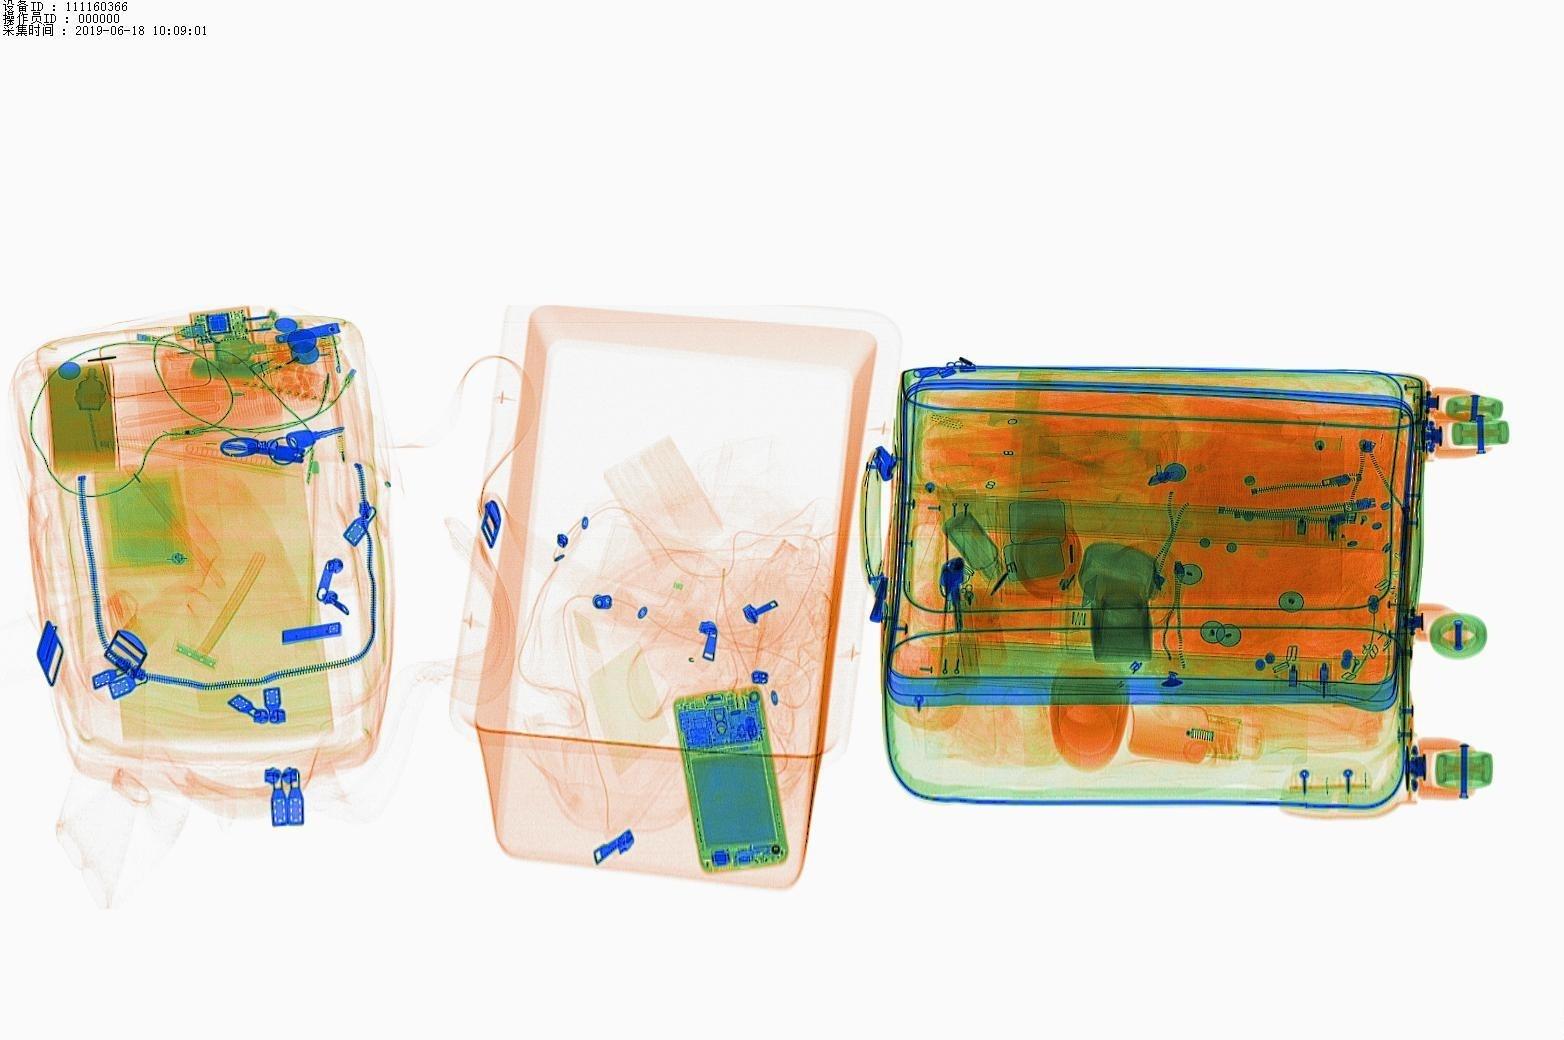NonmetallicFire: (239, 308, 367, 416)
